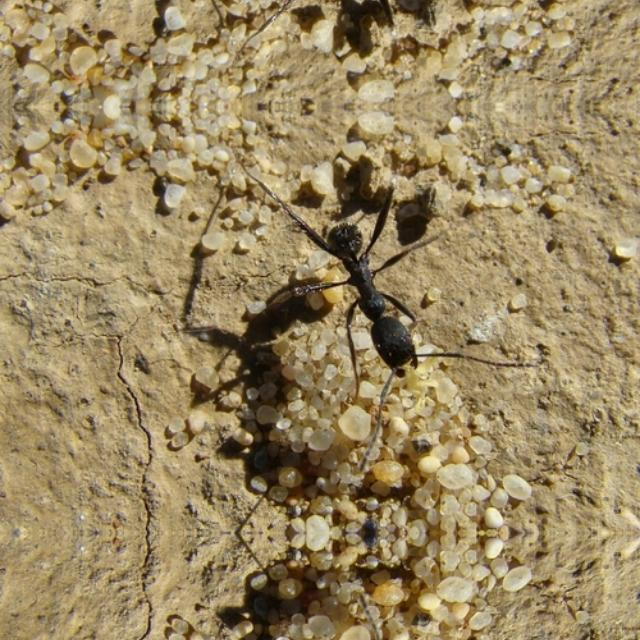Apheanogaster: (291, 202, 467, 390)
